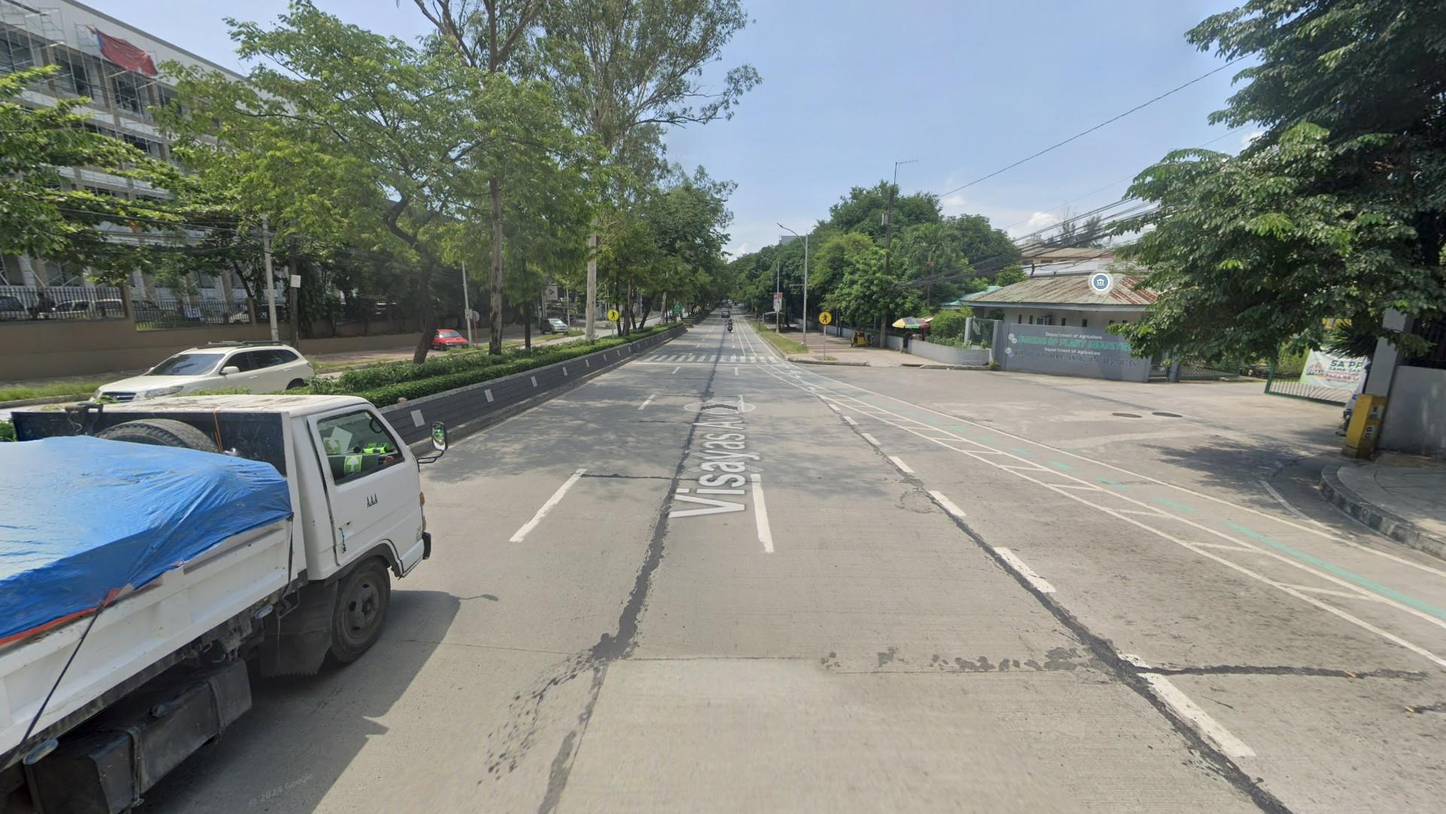pedestrian: (26, 292, 56, 324), (900, 329, 913, 355)
